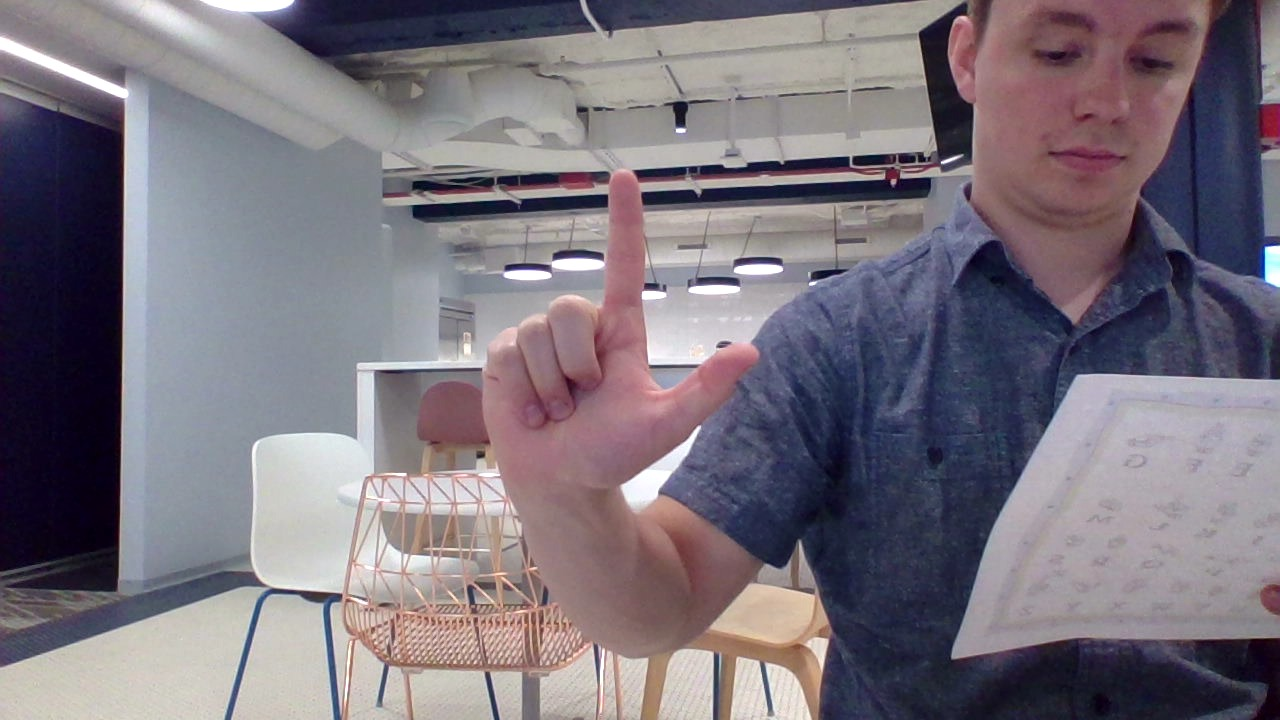l: (450, 152, 775, 524)
